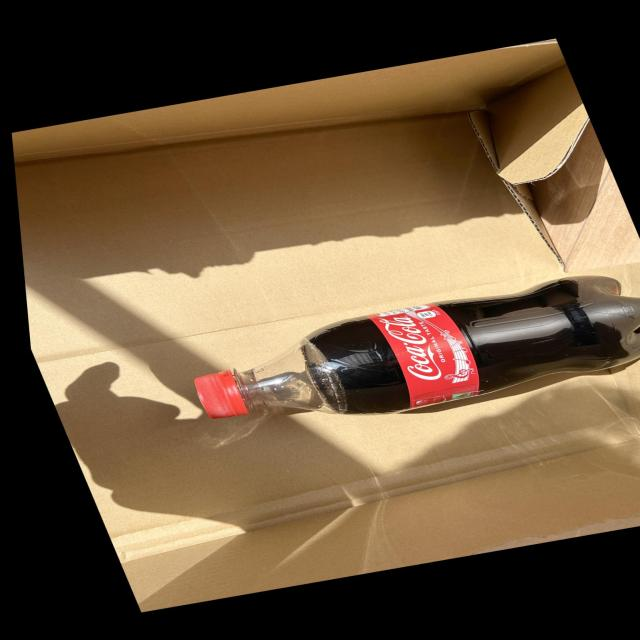high: (194, 276, 640, 418)
